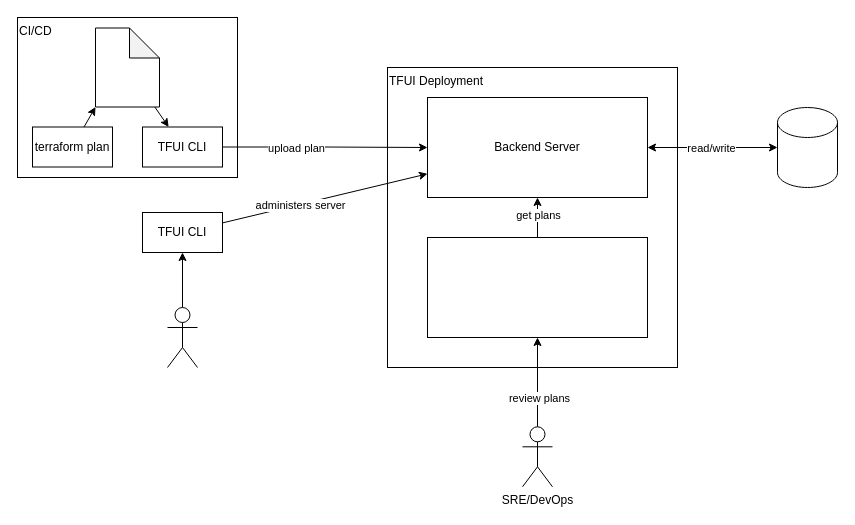
This 855x525 diagram has some shape labels left out. Each missing label, with the centre of its shape:
"Frontend Server" goes at point (537, 287).
"Plan Storage" goes at point (807, 147).
"plan.json" goes at point (127, 67).
"TFUI Admin" goes at point (182, 337).
